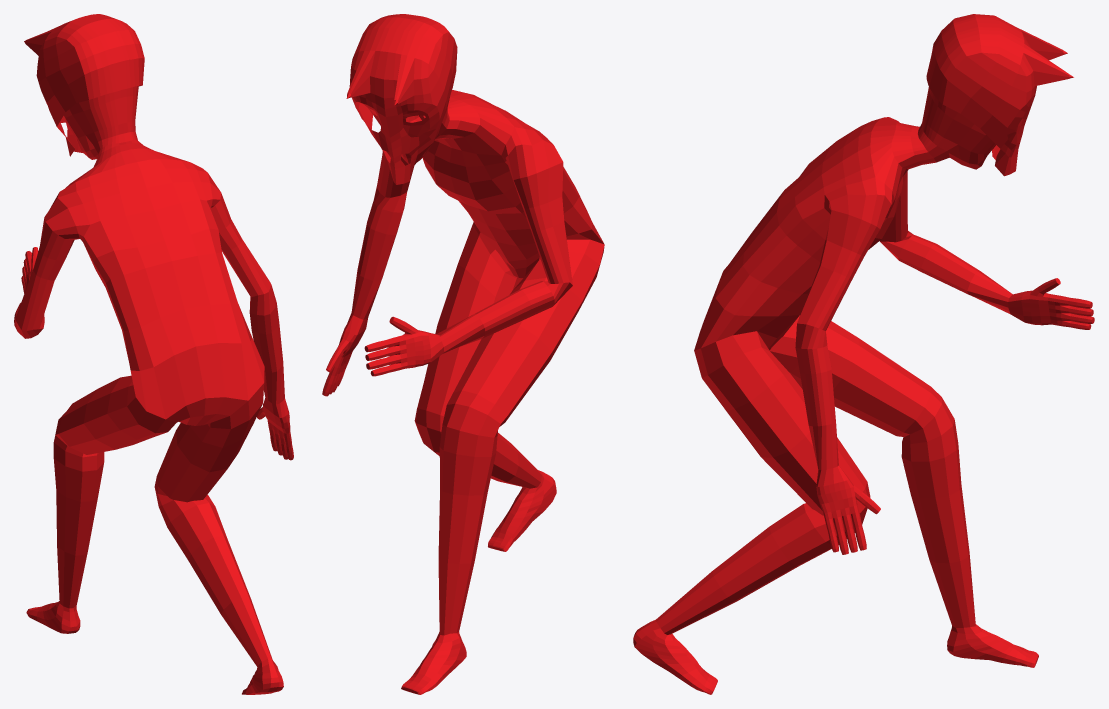
The model's file is saltoadelanteE_000143.obj.
The picture shows the model from 3 angles, left to right: view 1: azimuth 30°, elevation 25°; view 2: azimuth 150°, elevation 25°; view 3: azimuth 270°, elevation 25°; orthographic projection. The views are drawn at different scales.
Visible parts, largest first — view 1: Plane.002_Plane.001; view 2: Plane.002_Plane.001; view 3: Plane.002_Plane.001.
Boxes of the visible parts, <box> form: Plane.002_Plane.001: <box>14,14,293,694</box>; Plane.002_Plane.001: <box>322,14,604,694</box>; Plane.002_Plane.001: <box>633,14,1094,694</box>.
Bounding box in the file's own units: 2.42 × 5.6 × 3.56.
